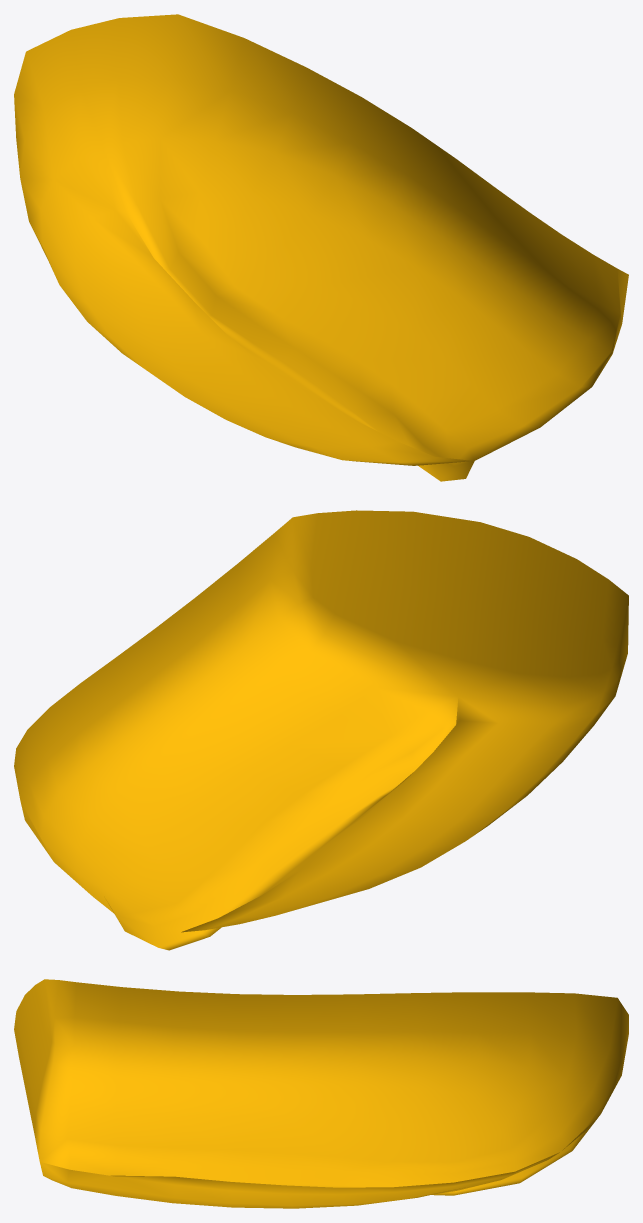
The model's file is OUTFITTING_INTERIOR__portland pudgy__PORTLAND PUDGY SIMPLIFIED.glb.
The picture shows the model from 3 angles, top to bottom: view 1: azimuth 30°, elevation 25°; view 2: azimuth 150°, elevation 25°; view 3: azimuth 270°, elevation 25°; orthographic projection. The views are drawn at different scales.
Visible parts, largest first — view 1: PORTLAND PUDGY SIMPLIFIED; view 2: PORTLAND PUDGY SIMPLIFIED; view 3: PORTLAND PUDGY SIMPLIFIED.
Part boxes in pixels (x1,y1,x2,y2): PORTLAND PUDGY SIMPLIFIED: [14, 14, 628, 481]; PORTLAND PUDGY SIMPLIFIED: [14, 510, 628, 950]; PORTLAND PUDGY SIMPLIFIED: [14, 979, 628, 1208].
Bounding box in the file's own units: 1.34 × 0.7099 × 2.34.
